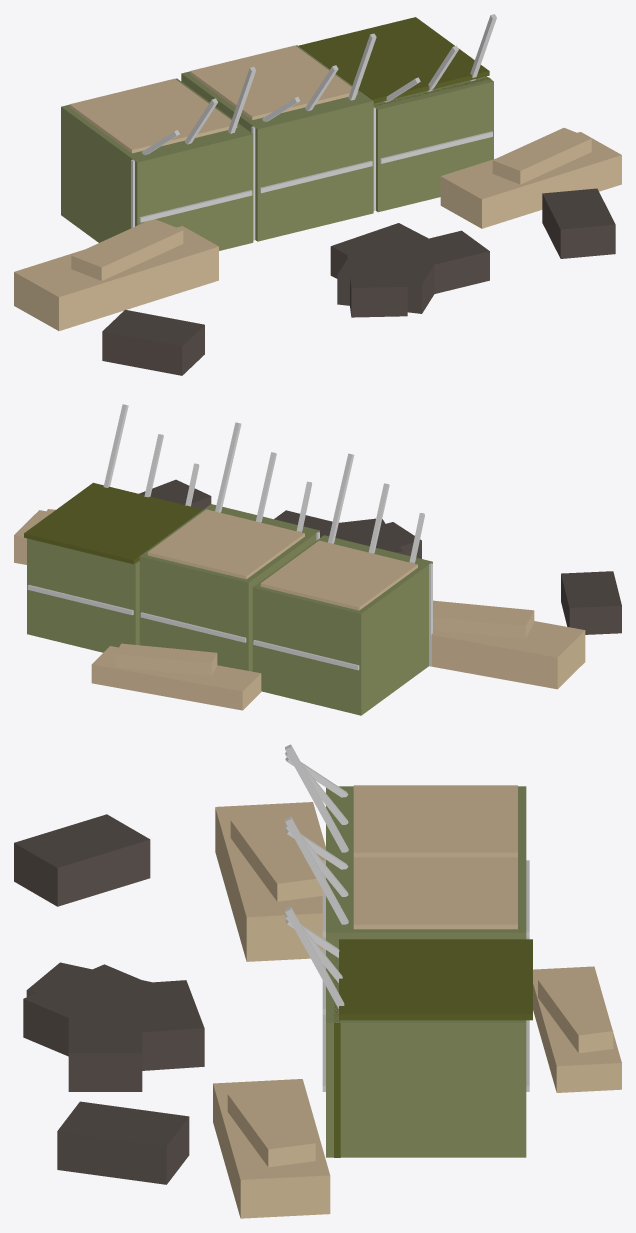
The model's file is SM_HescoCorto3_v4_Red_e2_MuyDanado_LOD0.fbx.
3 views of the same model, one above another, from view 1: azimuth 30°, elevation 25°; view 2: azimuth 150°, elevation 25°; view 3: azimuth 270°, elevation 25° (orthographic). The views are drawn at different scales.
Parts seen in each view (by area): view 1: SM_hesco_piezas_v98_LOD0; view 2: SM_hesco_piezas_v98_LOD0; view 3: SM_hesco_piezas_v98_LOD0.
Part boxes in pixels (<box>): SM_hesco_piezas_v98_LOD0: <box>14,14,621,375</box>; SM_hesco_piezas_v98_LOD0: <box>14,404,621,715</box>; SM_hesco_piezas_v98_LOD0: <box>14,744,621,1218</box>.
Size of the model in its own units: 5.36 by 1.7 by 3.7.
